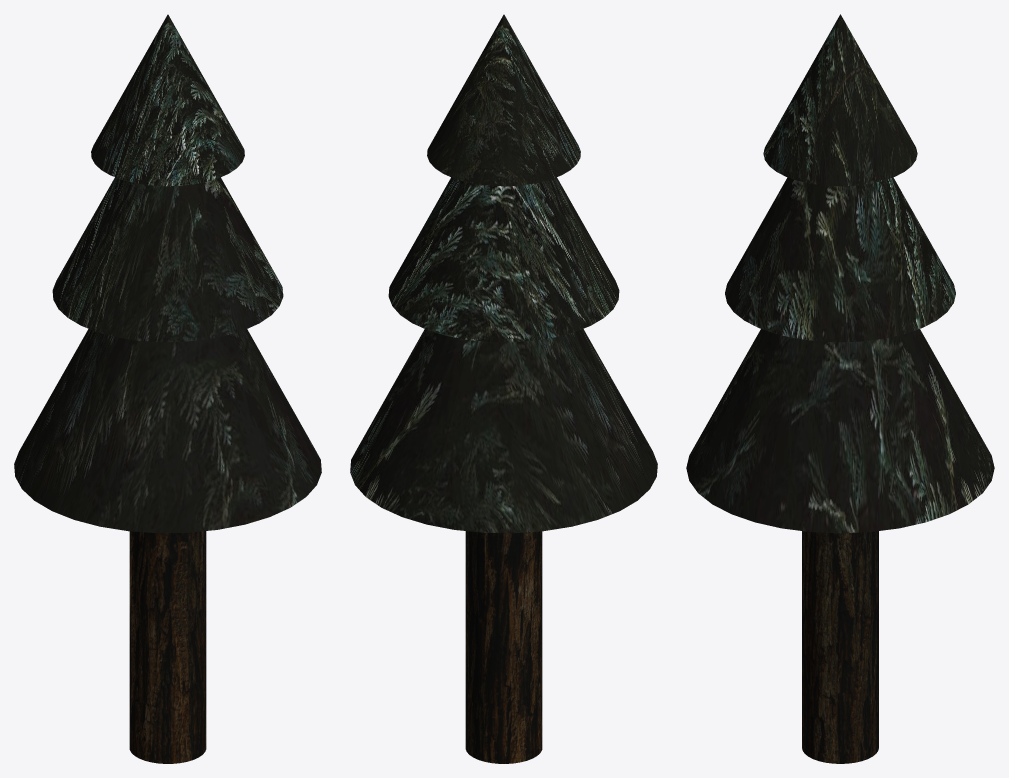
File: pine.obj
The picture shows the model from 3 angles, left to right: view 1: azimuth 30°, elevation 25°; view 2: azimuth 150°, elevation 25°; view 3: azimuth 270°, elevation 25°; orthographic projection.
Visible parts, largest first — view 1: Bottom_Branch_Cone.002, Middle_Branch_Cone.001, Trunk_Cylinder, Top_Branch_Cone; view 2: Bottom_Branch_Cone.002, Middle_Branch_Cone.001, Trunk_Cylinder, Top_Branch_Cone; view 3: Bottom_Branch_Cone.002, Middle_Branch_Cone.001, Trunk_Cylinder, Top_Branch_Cone.
Boxes of the visible parts, left/top/right/bottom form: Bottom_Branch_Cone.002: left=14, top=329, right=321, bottom=533; Middle_Branch_Cone.001: left=52, top=177, right=283, bottom=342; Trunk_Cylinder: left=129, top=531, right=206, bottom=763; Top_Branch_Cone: left=91, top=14, right=244, bottom=186; Bottom_Branch_Cone.002: left=350, top=329, right=657, bottom=533; Middle_Branch_Cone.001: left=388, top=177, right=619, bottom=342; Trunk_Cylinder: left=465, top=531, right=542, bottom=763; Top_Branch_Cone: left=427, top=14, right=580, bottom=186; Bottom_Branch_Cone.002: left=686, top=329, right=994, bottom=533; Middle_Branch_Cone.001: left=725, top=177, right=955, bottom=342; Trunk_Cylinder: left=802, top=531, right=878, bottom=763; Top_Branch_Cone: left=763, top=14, right=917, bottom=186.
Size of the model in its own units: 4 by 10.5 by 4.
